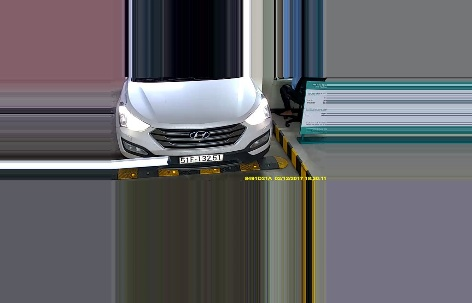plate: (180, 153, 226, 163)
